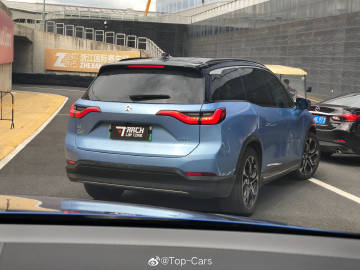other: (69, 44, 320, 212), (308, 88, 360, 159)
